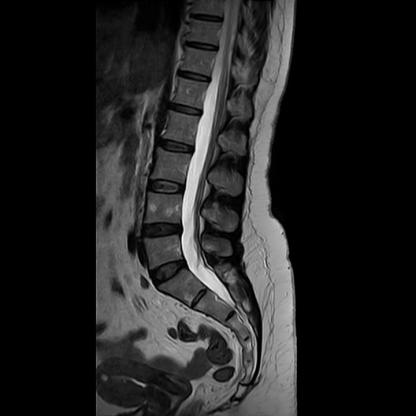Disc Bulgerotation: (146, 258, 195, 286), (140, 219, 187, 242)
